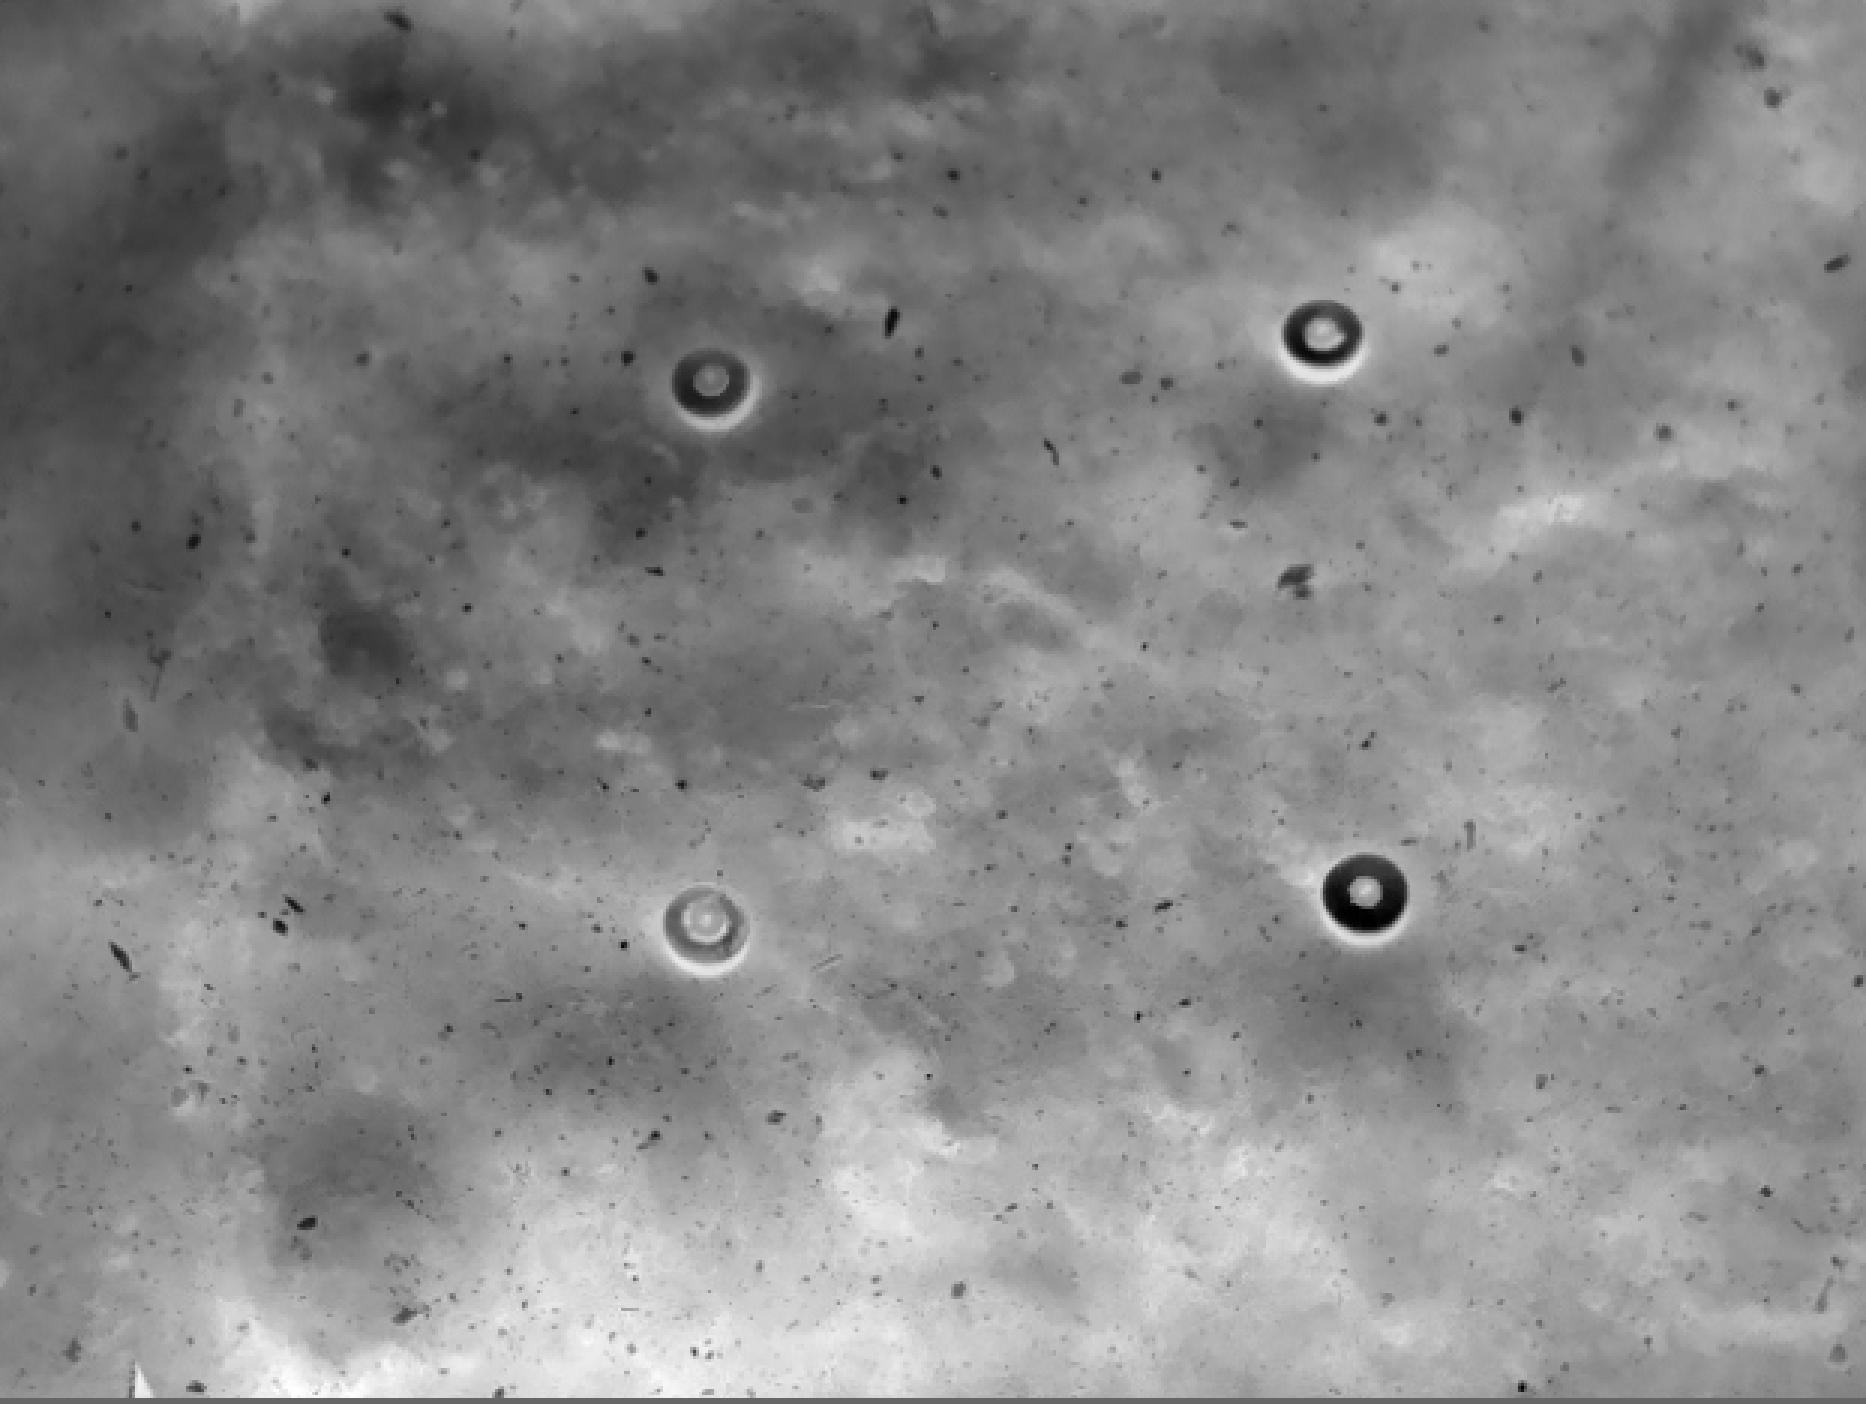mines-gjV8: (1314, 845, 1423, 960), (1272, 302, 1387, 389), (679, 345, 757, 432), (665, 888, 755, 962)
